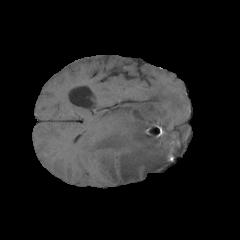glioma: (82, 83, 191, 183)
